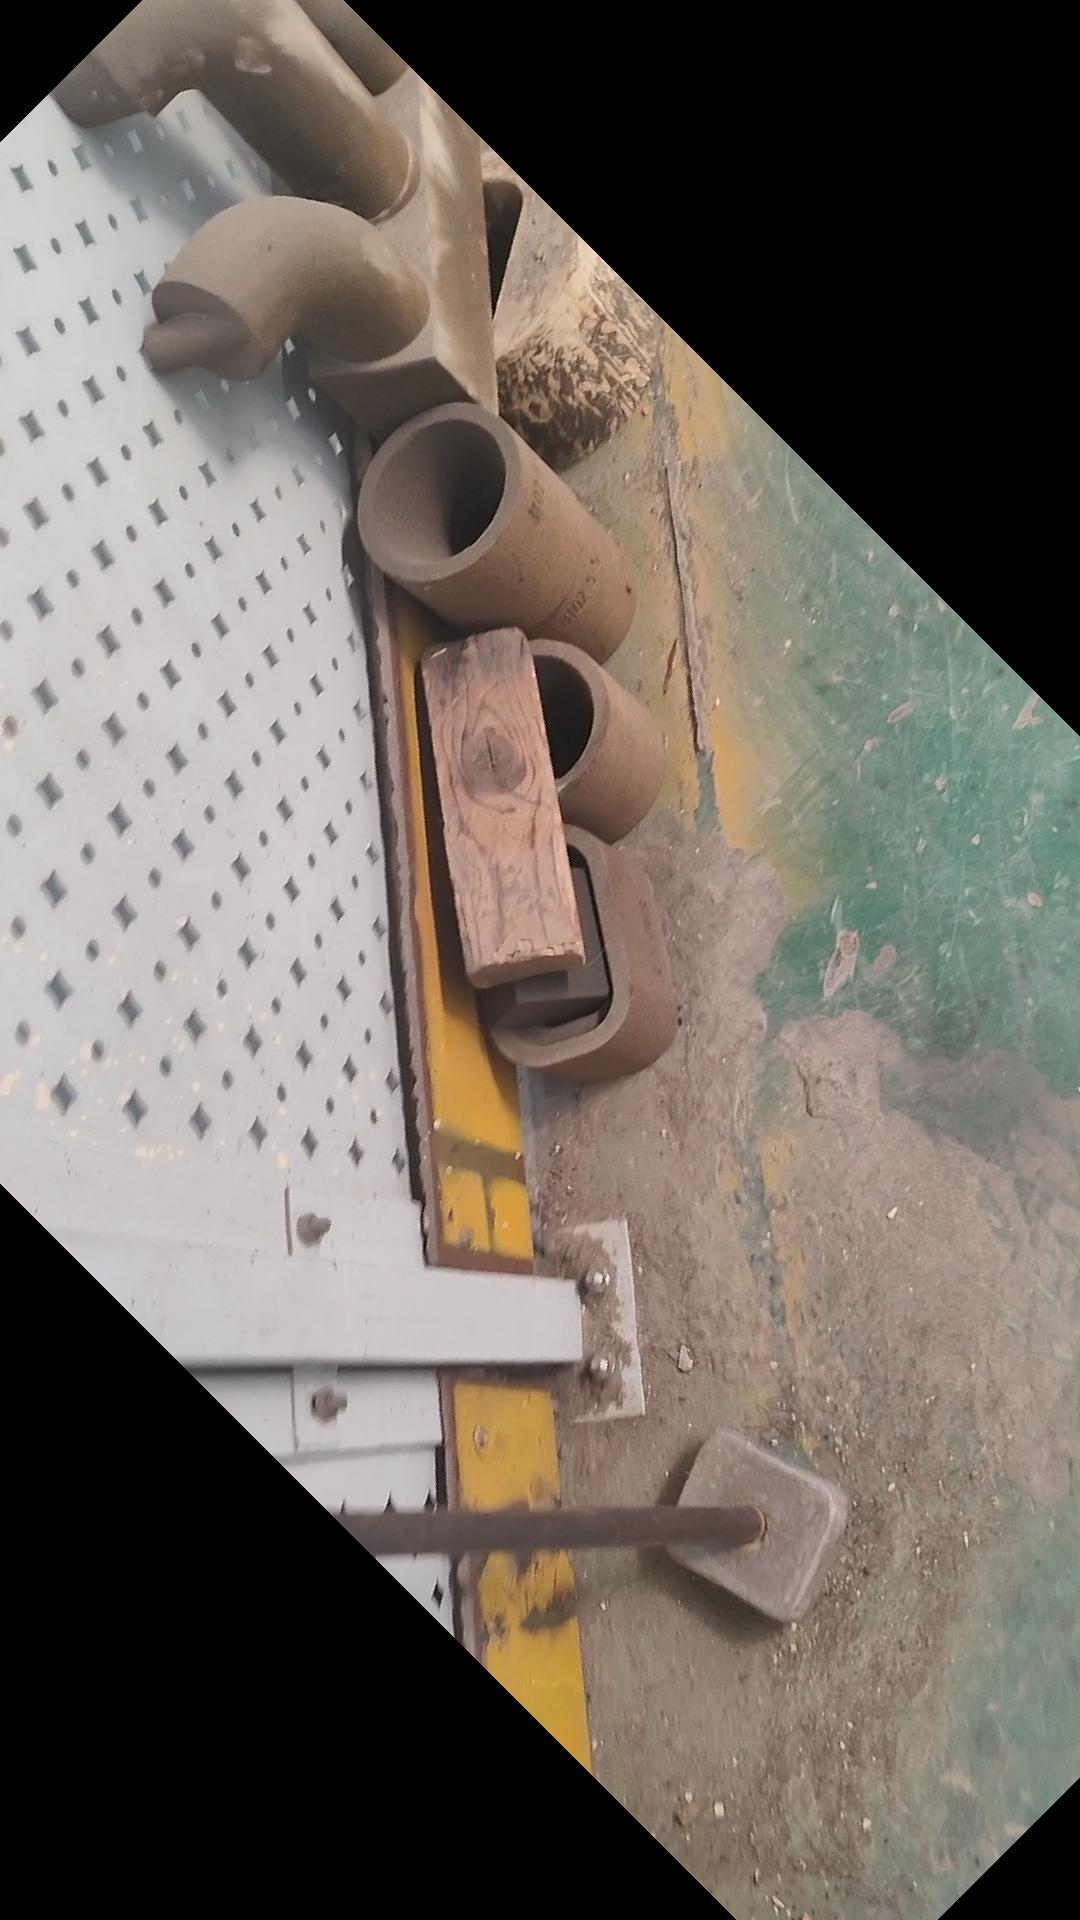pouring hole: (365, 415, 504, 568), (469, 655, 597, 793)
